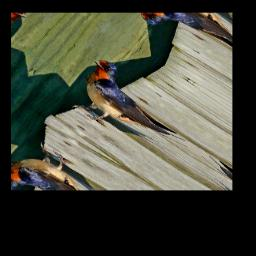Swallow: (59, 54, 192, 159)
